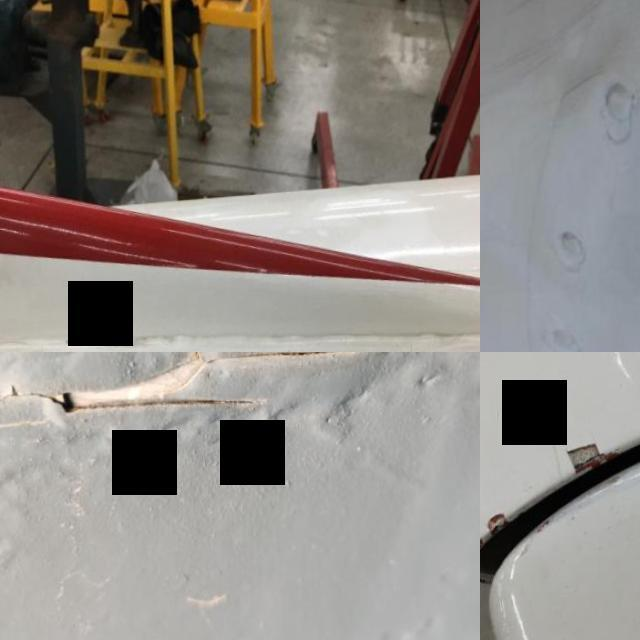Crack: (0, 352, 421, 448), (35, 325, 480, 352), (557, 402, 640, 483), (483, 484, 532, 546)
Dent: (525, 14, 640, 126)
